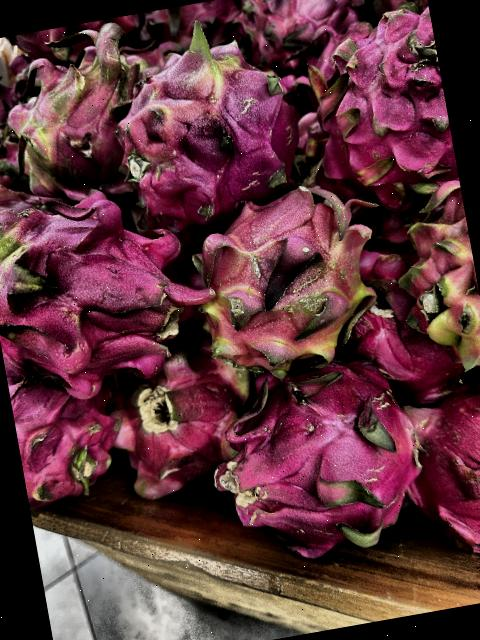buah-naga-belum-matang: (180, 170, 390, 383), (0, 177, 199, 396), (0, 34, 169, 200), (394, 170, 480, 368)
buah-naga-matang: (206, 349, 436, 566), (109, 33, 314, 227), (306, 2, 456, 188), (98, 360, 246, 497), (394, 364, 480, 579), (8, 367, 134, 511), (353, 292, 468, 404), (229, 0, 357, 64), (143, 0, 247, 57)
